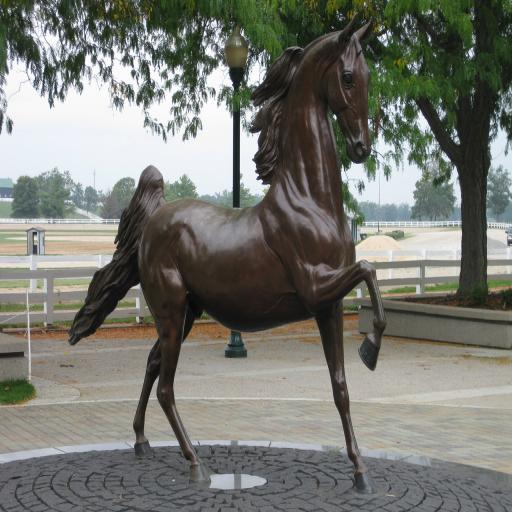horse: (68, 10, 387, 500)
